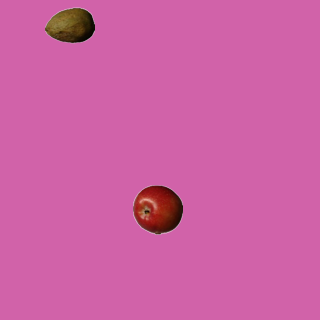Apple Braeburn: (132, 184, 182, 234)
Papaya: (44, 0, 94, 50)
